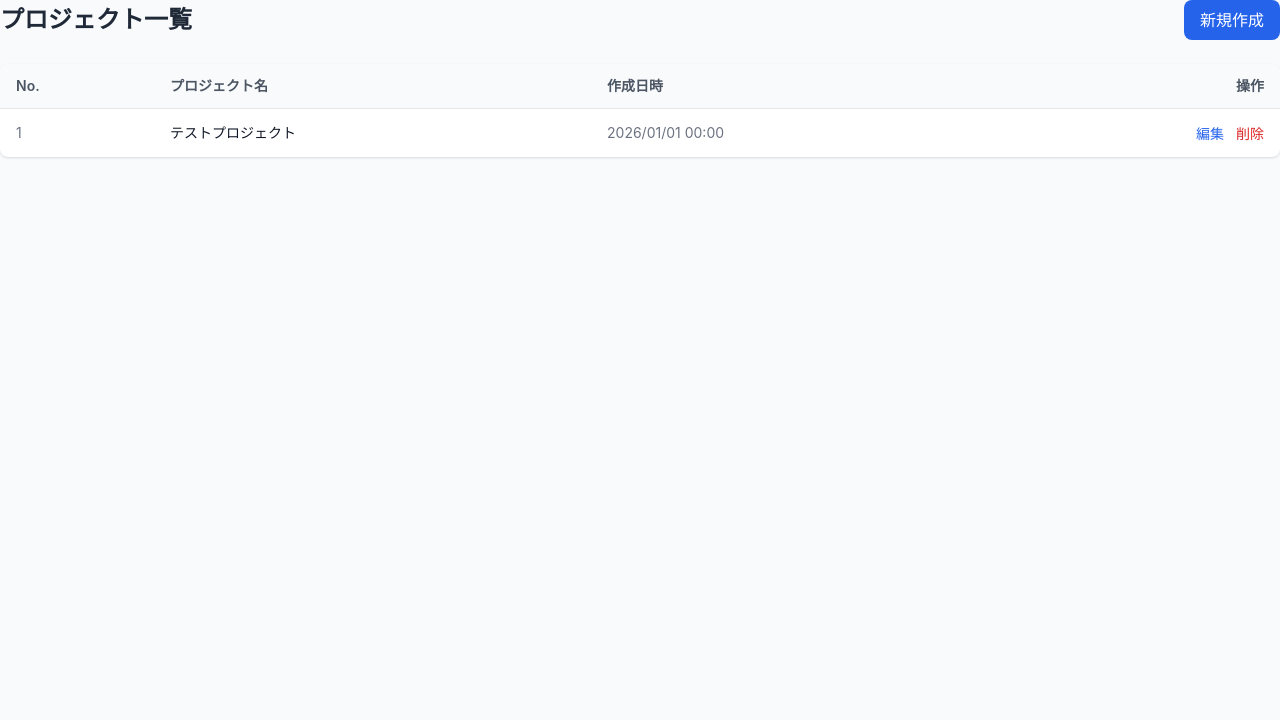
Scenario: ProjectList › 編集ダイアログが開閉できる
This screenshot has width=1280, height=720.
Expected: the text "テストプロジェクト" is shown, left=154, top=108, right=591, bottom=157
Click the button "編集": (1210,134) left=1196, top=124, right=1224, bottom=144
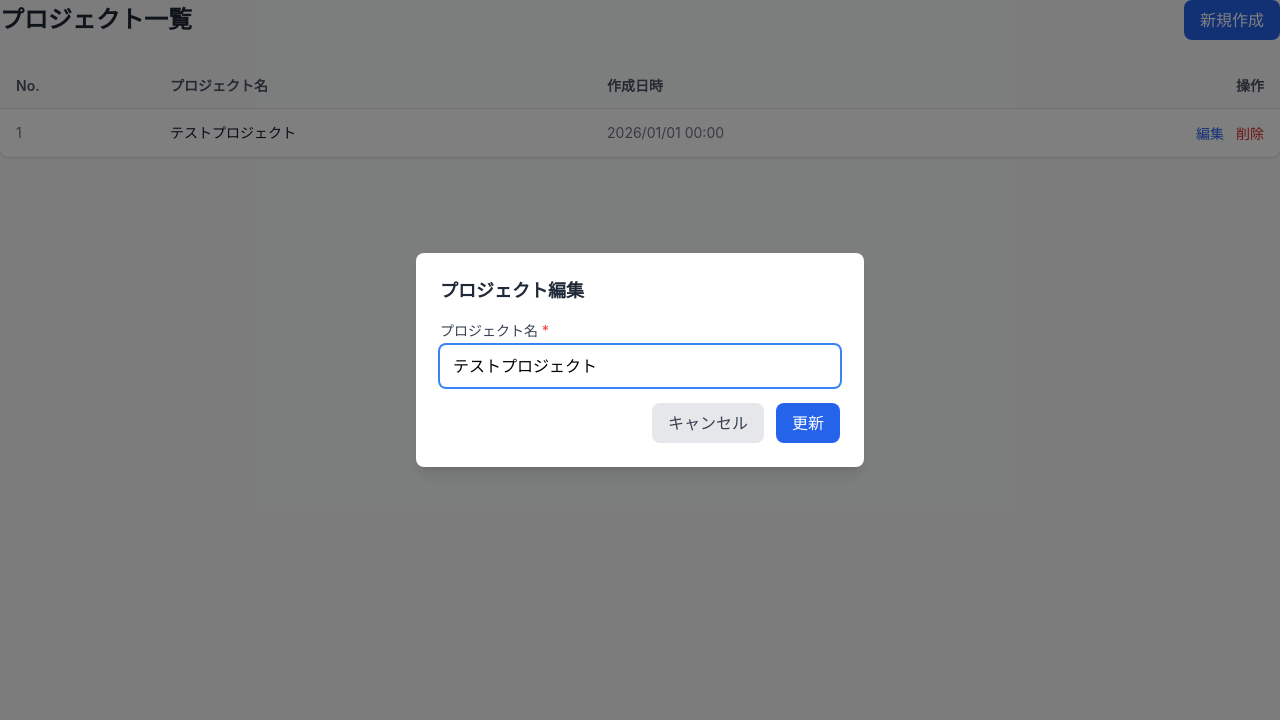
Now the heading "プロジェクト編集" is shown, box left=440, top=280, right=584, bottom=301
Now the field showing "テストプロジェクト" is shown, box left=440, top=345, right=840, bottom=387
Click the button "キャンセル": (708,423) left=652, top=403, right=764, bottom=443
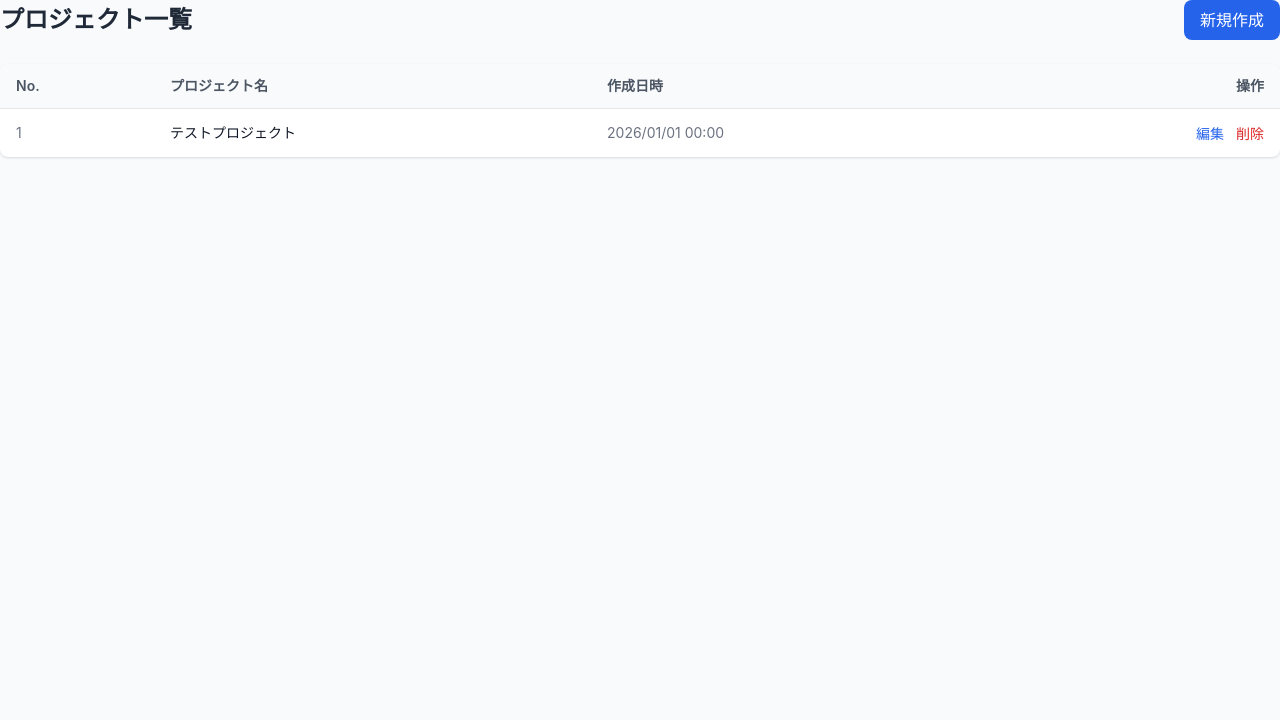
Now the heading "プロジェクト編集" is gone
